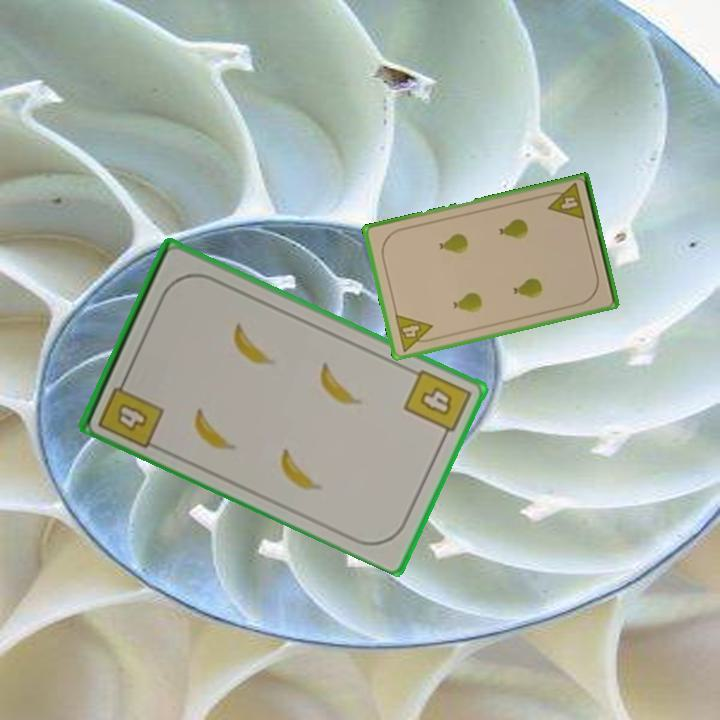4b: (94, 371, 167, 451), (400, 365, 474, 443)
4p: (391, 310, 438, 354), (542, 180, 588, 224)
